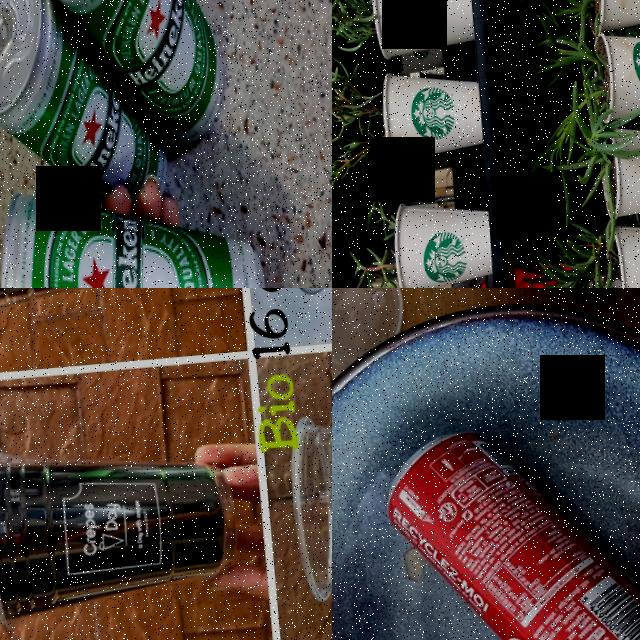can: (377, 406, 640, 640), (0, 0, 169, 211), (19, 0, 230, 159), (0, 171, 279, 288)
cup: (0, 423, 245, 634), (378, 62, 484, 164), (388, 193, 495, 288), (369, 0, 475, 59), (588, 22, 640, 123), (597, 116, 640, 220), (603, 212, 640, 288)
